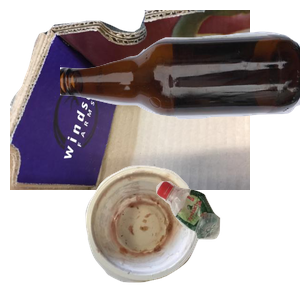cardboard: (10, 10, 250, 190)
glass: (60, 29, 300, 141)
plastic: (153, 178, 300, 300)
trash: (83, 163, 276, 300)
